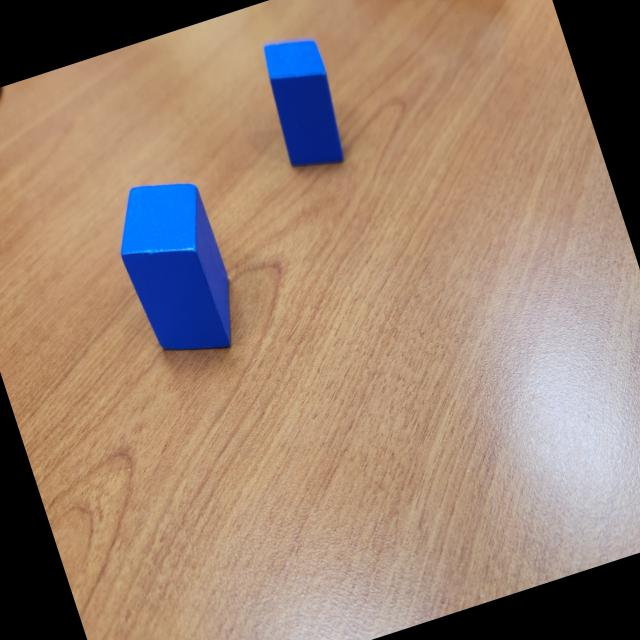blue: (101, 167, 249, 371), (254, 29, 355, 177)
